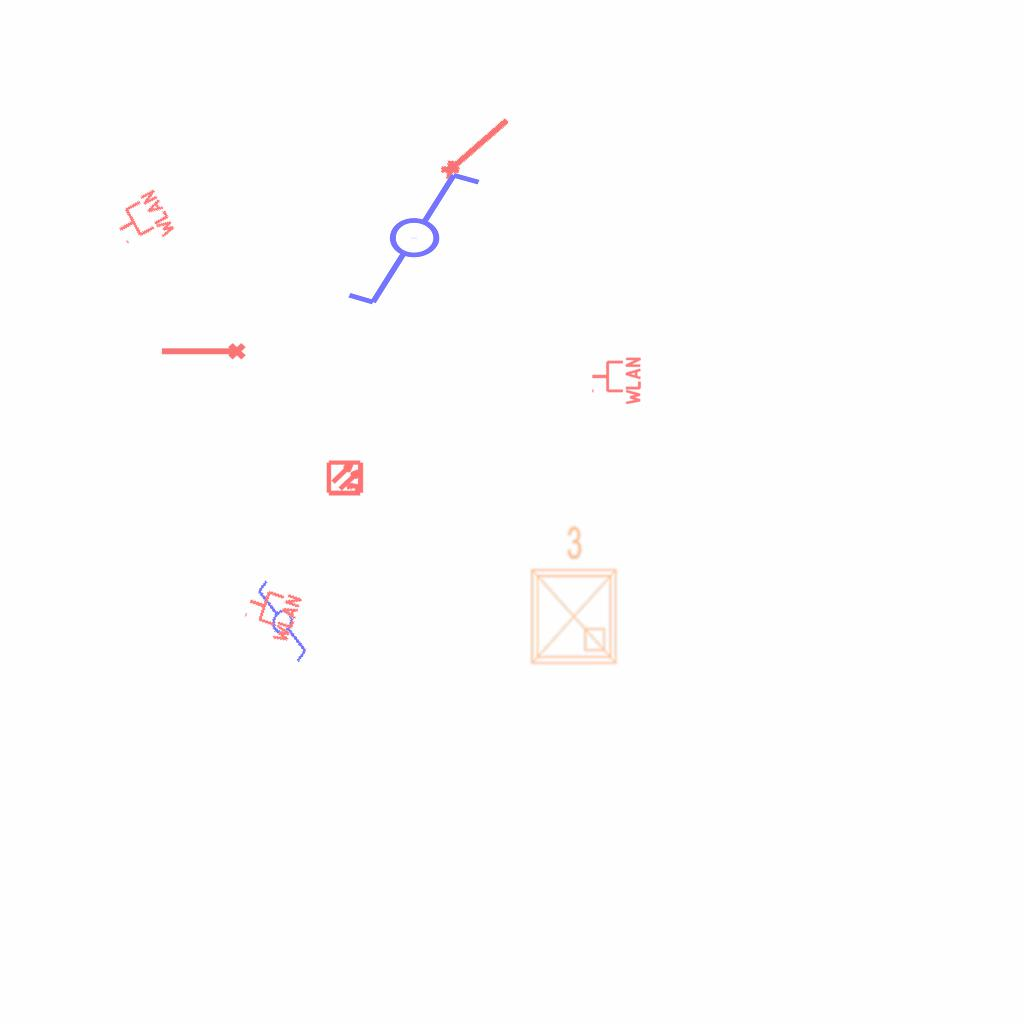ASR_Ansaugoeffnung: (434, 108, 516, 185), (159, 341, 247, 364)
Einbaudownlights_LED_Konferenzraeume: (520, 521, 624, 671)
OT_Multisensormelder_(Kombination_RMO_WMD): (318, 450, 374, 506)
WLAN: (107, 186, 179, 258), (237, 579, 305, 647), (590, 355, 642, 407)
Wechselschalter: (344, 168, 501, 312), (232, 576, 328, 674)
